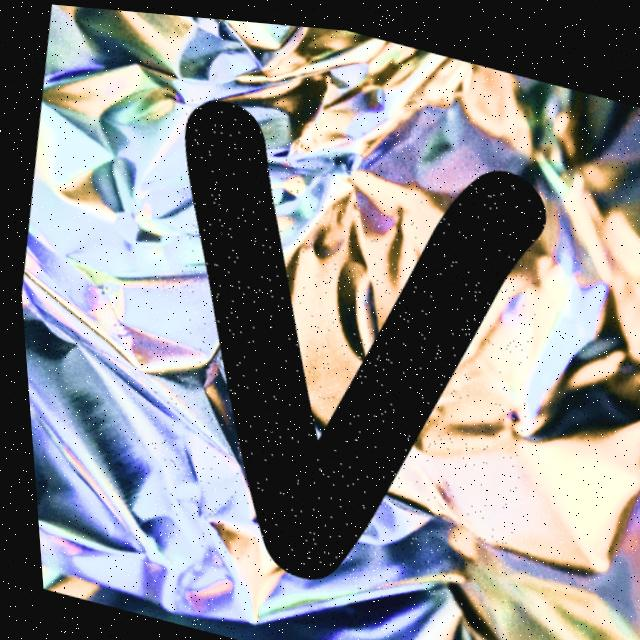Y: (183, 96, 543, 574)
